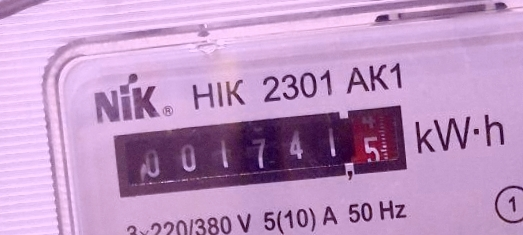0: (141, 145, 163, 179), (177, 139, 198, 174)
1: (212, 134, 232, 171), (322, 124, 340, 160)
4: (284, 125, 307, 162), (359, 111, 376, 131)
5: (360, 131, 381, 164)
7: (248, 134, 268, 170)
screen: (106, 97, 415, 204)
